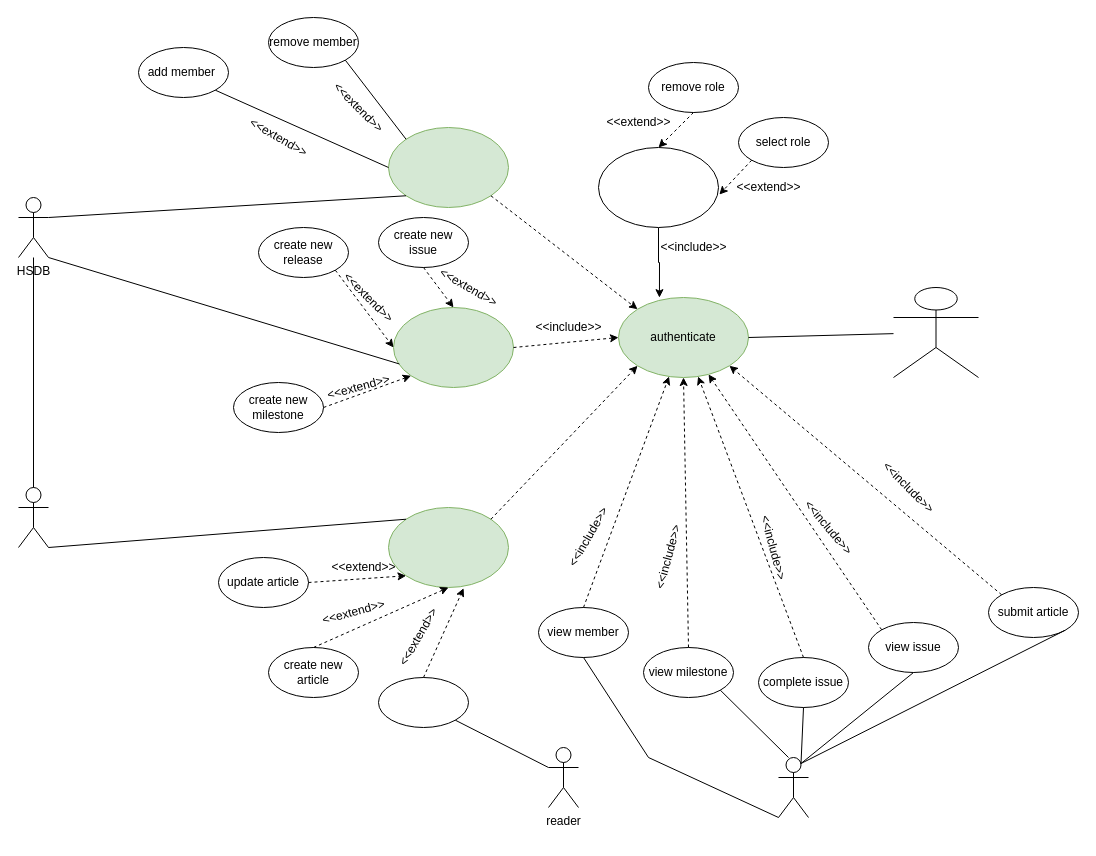
Some shapes in this 1096 by 856 pixel diagram are drawn without their labels. Each missing label, with the box of its shape:
<<service>> authentication: (892, 286, 978, 378)
author and reviewer: (778, 756, 808, 818)
editor: (18, 486, 48, 548)
manager a particular article: (392, 306, 514, 388)
manager of article: (388, 506, 508, 588)
manager of member: (388, 126, 508, 208)
manager role: (598, 146, 718, 228)
view article: (378, 676, 468, 728)
